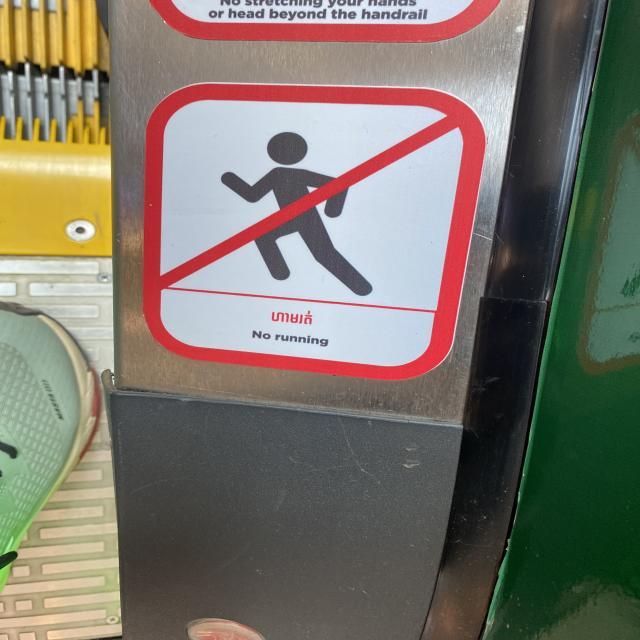Yolov11_80vkh: (268, 307, 316, 327)
